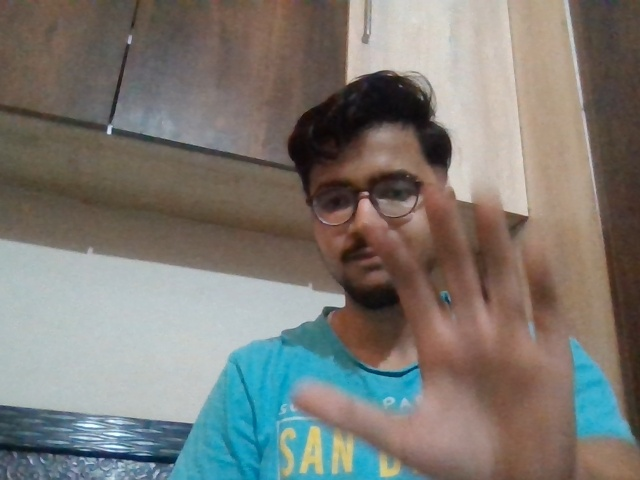hello: (303, 219, 589, 480)
